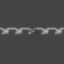dust: (34, 29, 38, 33)
